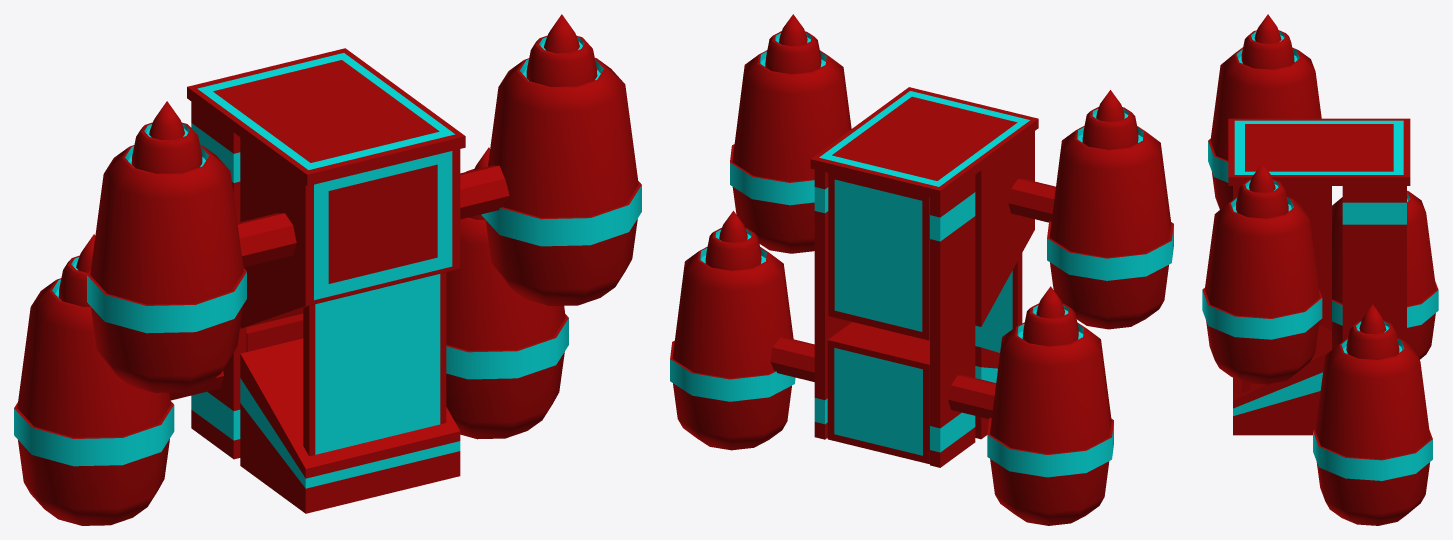
Rendered from GJ_Envrio_Kit_Buildings_HL_31-07-2019_v6.fbx.
3 renders of one model, left to right at view 1: azimuth 30°, elevation 25°; view 2: azimuth 150°, elevation 25°; view 3: azimuth 270°, elevation 25°, orthographic. The views are drawn at different scales.
Visible parts, largest first — view 1: Building_6_Floating_middle_Building; view 2: Building_6_Floating_middle_Building; view 3: Building_6_Floating_middle_Building.
Boxes of the visible parts, <box> form: Building_6_Floating_middle_Building: <box>14,14,641,525</box>; Building_6_Floating_middle_Building: <box>670,14,1173,525</box>; Building_6_Floating_middle_Building: <box>1202,14,1438,525</box>.
Size of the model in its own units: 1698 by 1458 by 868.
